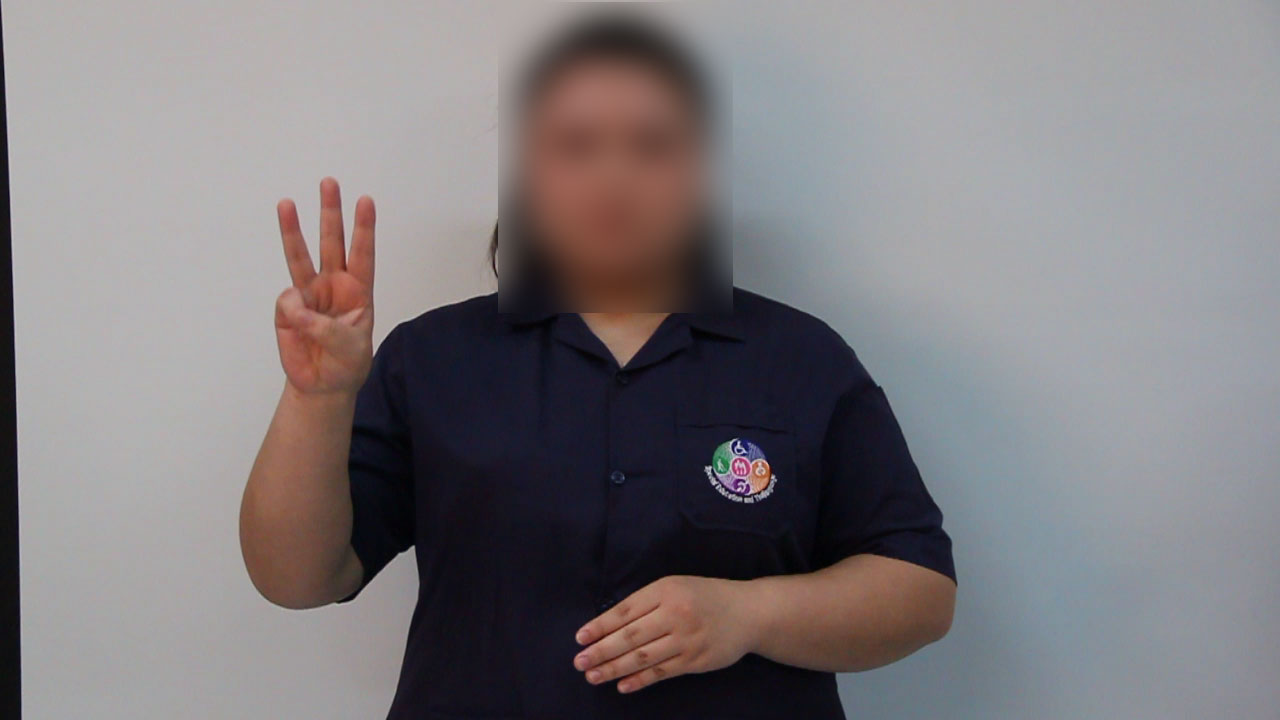wor: (262, 168, 383, 414)
